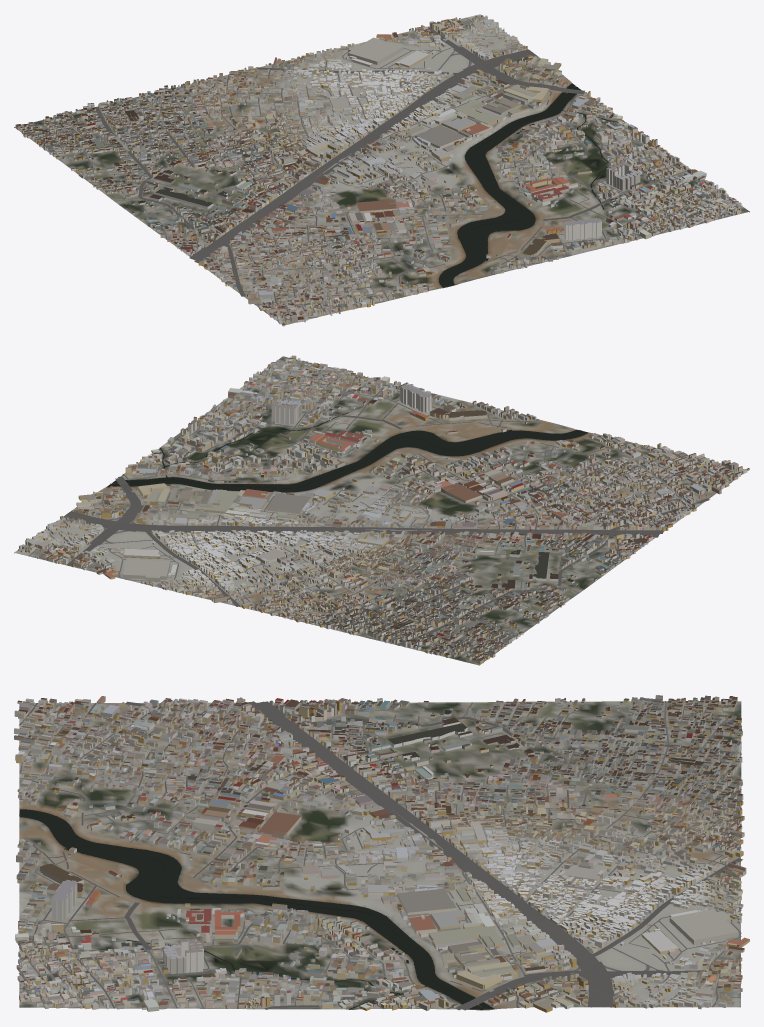
The picture shows the model from 3 angles, top to bottom: view 1: azimuth 30°, elevation 25°; view 2: azimuth 150°, elevation 25°; view 3: azimuth 270°, elevation 25°; orthographic projection. The views are drawn at different scales.
Parts seen in each view (by area): view 1: buildings, ground, roads, water; view 2: buildings, ground, roads, water; view 3: buildings, ground, roads, water.
Boxes of the visible parts, x1=… form: buildings: x1=15, y1=15, x2=742, y2=326; ground: x1=14, y1=14, x2=749, y2=324; roads: x1=28, y1=17, x2=735, y2=325; water: x1=438, y1=83, x2=626, y2=287; buildings: x1=18, y1=355, x2=749, y2=664; ground: x1=14, y1=356, x2=744, y2=665; roads: x1=25, y1=359, x2=741, y2=661; water: x1=106, y1=412, x2=588, y2=492; buildings: x1=14, y1=695, x2=749, y2=1012; ground: x1=19, y1=701, x2=741, y2=1010; roads: x1=18, y1=701, x2=742, y2=1010; water: x1=19, y1=809, x2=493, y2=1010.
Size of the model in its own units: 1435 by 49.41 by 1428.
